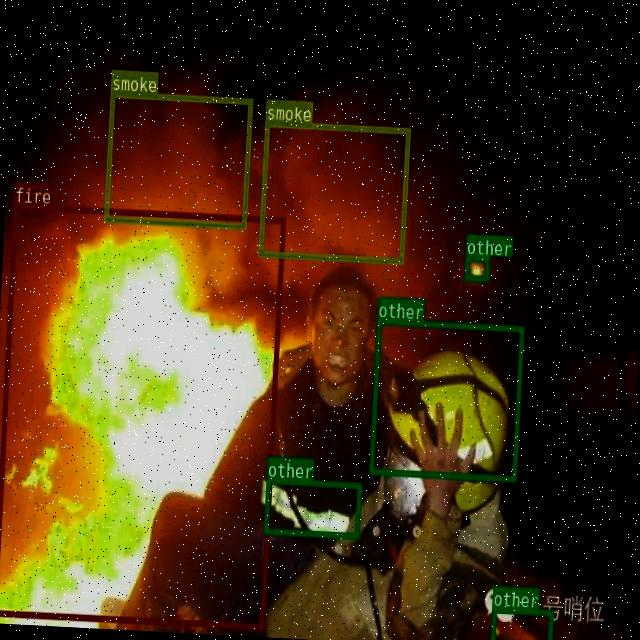fire: (0, 201, 285, 628)
smoke: (258, 120, 410, 262), (102, 90, 252, 228)
